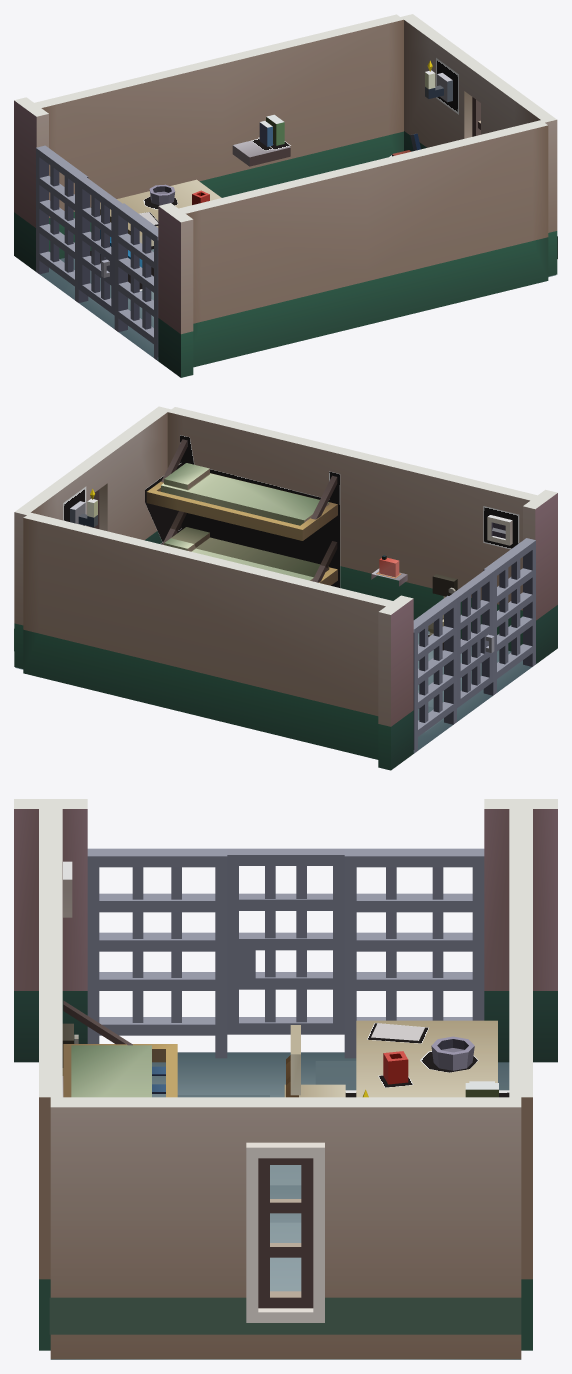
The model's file is prison cell.fbx.
3 renders of one model, top to bottom at view 1: azimuth 30°, elevation 25°; view 2: azimuth 150°, elevation 25°; view 3: azimuth 270°, elevation 25°, orthographic. The views are drawn at different scales.
Parts seen in each view (by area): view 1: P01_jail_partition_wall_01.001, P01_jail_partition_wall_01, P01_jail_ext_tile_r, P01_jail_slidingdoor_fixed, P01_reception_slidingdoor_1_2, P01_jail_floor_01, P01_jail_desk_04, P01_jail_book_shelf, P01_jail_light_01, P01_jail_light_shadow, P00_jail_bowl; view 2: P01_jail_partition_wall_01, P01_jail_partition_wall_01.001, P01_jail_ext_tile_r, P01_jail_slidingdoor_fixed, P01_jail_bed_02_mattress.002, P01_jail_bed_01_shadow.008, P00_bed_04.001, P01_reception_slidingdoor_1_2, P01_jail_floor_01, P01_jail_bed_02_pillow.001, P01_jail_fan_shadow, P01_jail_fan_01 (+2 smaller); view 3: P01_jail_ext_tile_r_ext, P01_jail_slidingdoor_fixed, P01_jail_partition_wall_01, P01_jail_partition_wall_01.001, P01_reception_slidingdoor_1_2, P01_jail_floor_01, P01_jail_ext_tile_r, P01_jail_desk_04, P01_jail_bed_02_mattress.002, P00_bed_04.001, P01_jail_chair_04, P00_jail_bowl (+2 smaller).
Part boxes in pixels (x1,y1,x2,y2): P01_jail_partition_wall_01.001: [158, 120, 548, 377]; P01_jail_partition_wall_01: [14, 14, 403, 271]; P01_jail_ext_tile_r: [401, 14, 557, 276]; P01_jail_slidingdoor_fixed: [36, 145, 158, 360]; P01_reception_slidingdoor_1_2: [78, 177, 121, 315]; P01_jail_floor_01: [40, 249, 555, 360]; P01_jail_desk_04: [100, 179, 221, 267]; P01_jail_book_shelf: [232, 140, 290, 166]; P01_jail_light_01: [425, 60, 452, 102]; P01_jail_light_shadow: [436, 58, 458, 114]; P00_jail_bowl: [149, 184, 175, 205]; P01_jail_partition_wall_01: [23, 512, 413, 770]; P01_jail_partition_wall_01.001: [167, 407, 557, 663]; P01_jail_ext_tile_r: [14, 406, 170, 668]; P01_jail_slidingdoor_fixed: [413, 538, 535, 753]; P01_jail_bed_02_mattress.002: [161, 473, 329, 580]; P01_jail_bed_01_shadow.008: [145, 435, 340, 587]; P00_bed_04.001: [146, 439, 337, 585]; P01_reception_slidingdoor_1_2: [449, 570, 494, 707]; P01_jail_floor_01: [15, 631, 531, 753]; P01_jail_bed_02_pillow.001: [164, 463, 209, 551]; P01_jail_fan_shadow: [483, 506, 519, 549]; P01_jail_fan_01: [487, 515, 512, 545]; P01_jail_ext_tile_r_ext: [49, 1107, 521, 1359]; P01_jail_slidingdoor_fixed: [87, 848, 484, 1058]; P01_jail_partition_wall_01: [484, 799, 557, 1350]; P01_jail_partition_wall_01.001: [14, 799, 87, 1350]; P01_reception_slidingdoor_1_2: [227, 848, 344, 1034]; P01_jail_floor_01: [50, 1052, 521, 1359]; P01_jail_ext_tile_r: [50, 1097, 521, 1308]; P01_jail_desk_04: [356, 1020, 497, 1097]; P01_jail_bed_02_mattress.002: [71, 1045, 151, 1097]; P00_bed_04.001: [63, 1000, 177, 1097]; P01_jail_chair_04: [284, 1025, 345, 1097]; P00_jail_bowl: [431, 1036, 474, 1070].
Bounding box in the file's own units: 645 × 463 × 238.
2 materials, 2 textured.
